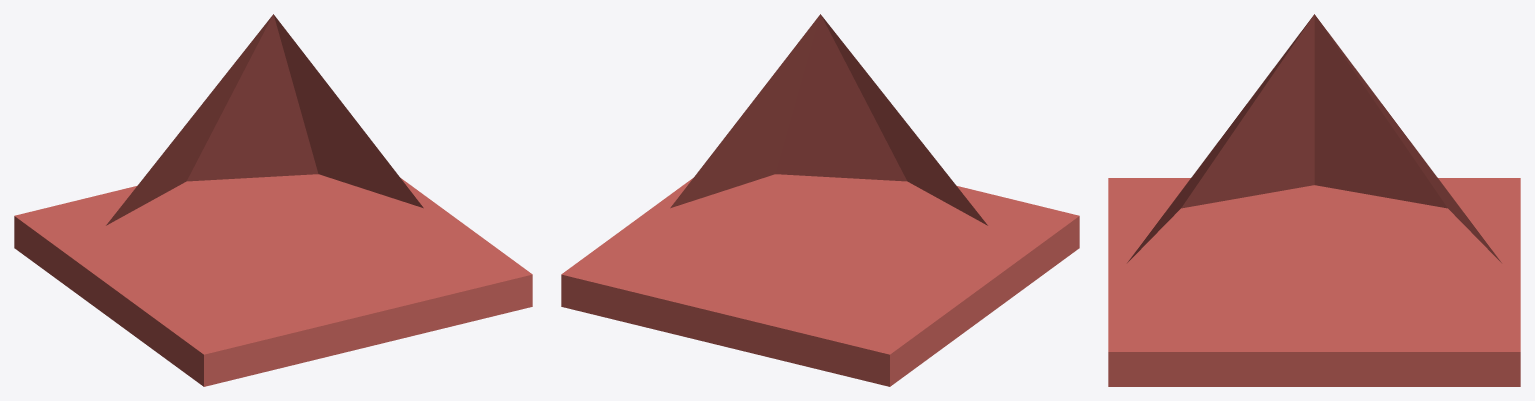
The model's file is chicken_hat.gltf.
3 renders of one model, left to right at view 1: azimuth 30°, elevation 25°; view 2: azimuth 150°, elevation 25°; view 3: azimuth 270°, elevation 25°, orthographic. The views are drawn at different scales.
Parts seen in each view (by area): view 1: ChickenHat; view 2: ChickenHat; view 3: ChickenHat.
Part boxes in pixels (box(x1,y1,x2,y2)): ChickenHat: box(14, 14, 532, 386); ChickenHat: box(561, 14, 1079, 386); ChickenHat: box(1108, 14, 1520, 386).
Size of the model in its own units: 0.16 by 0.1225 by 0.16.
